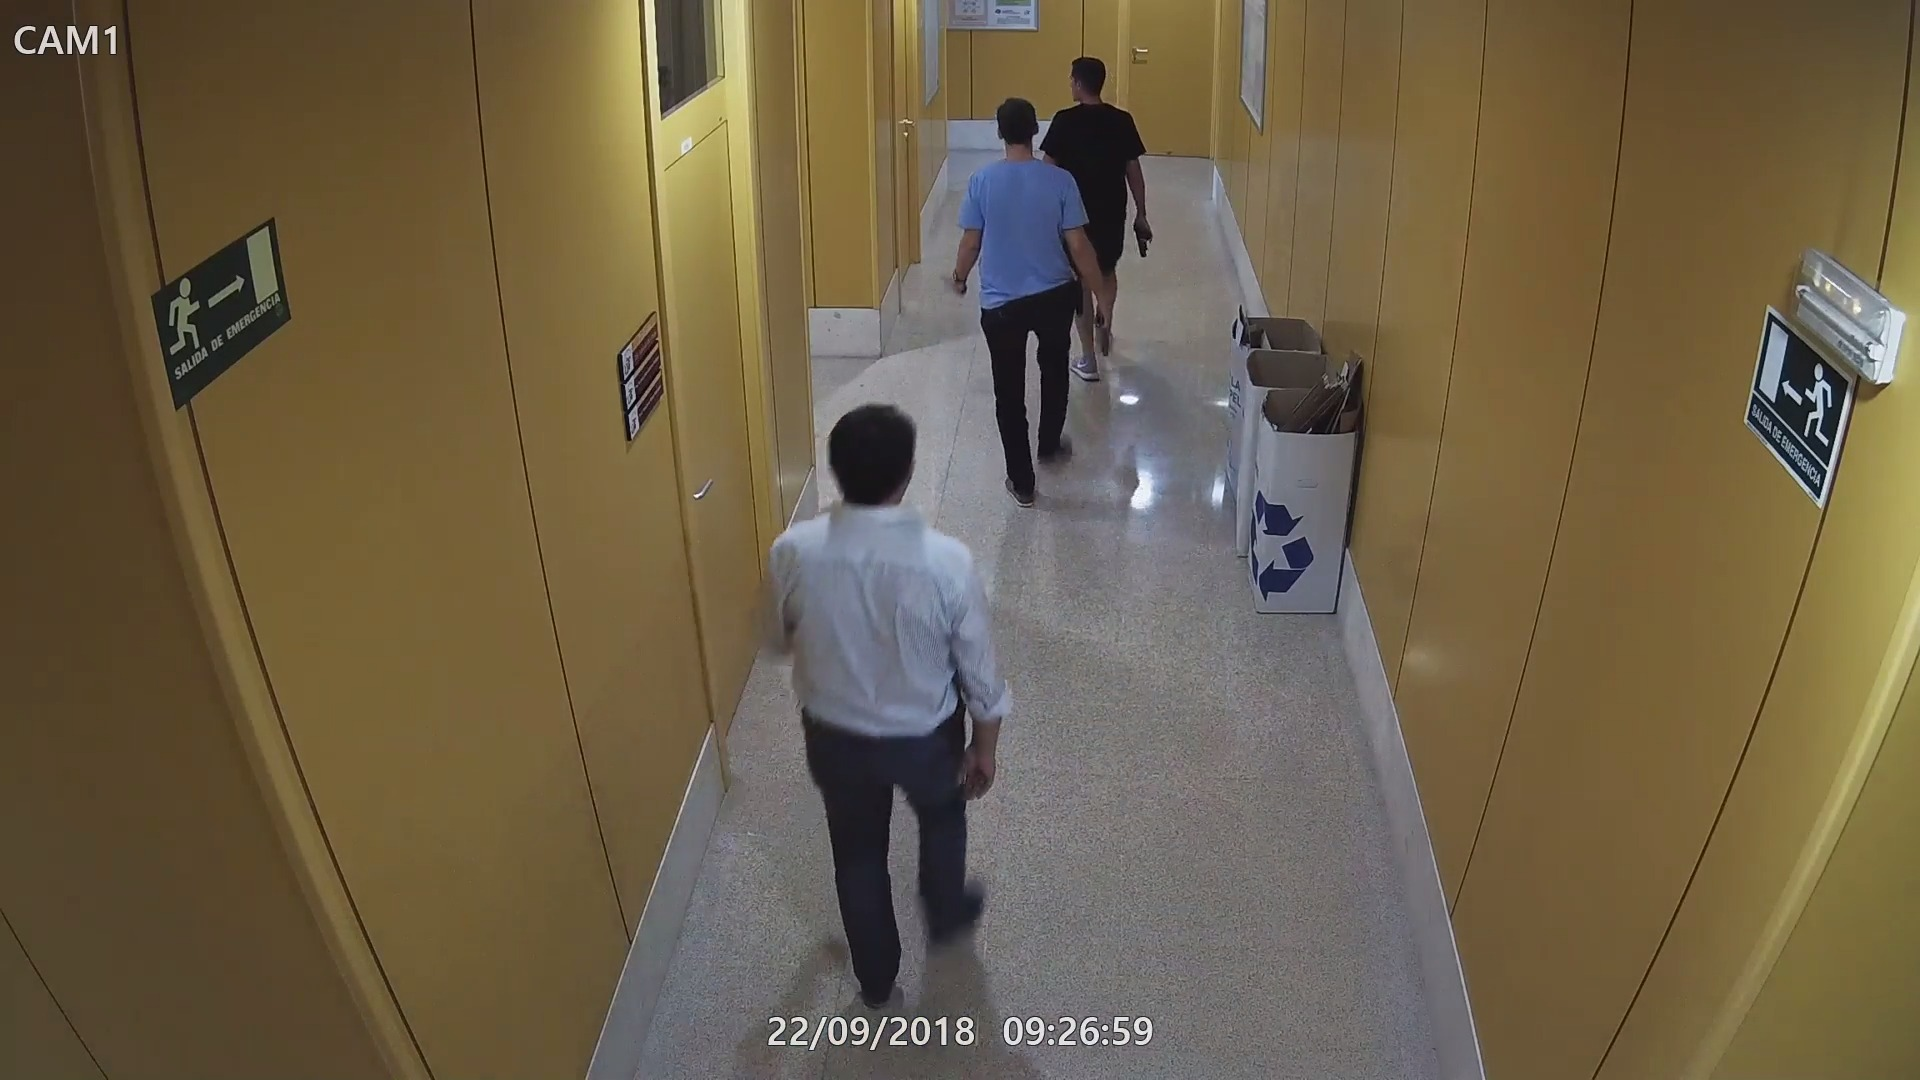Handgun: (1092, 294, 1118, 360), (1131, 220, 1158, 260)
Knife: (938, 269, 975, 295)
